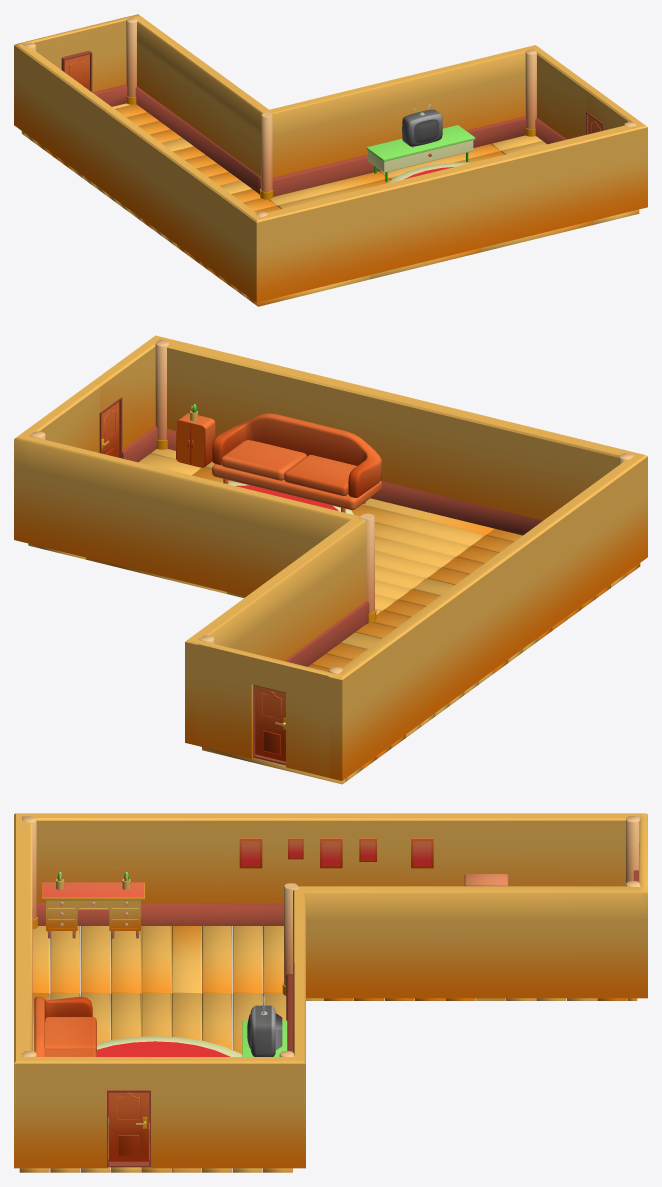
The picture shows the model from 3 angles, top to bottom: view 1: azimuth 30°, elevation 25°; view 2: azimuth 150°, elevation 25°; view 3: azimuth 270°, elevation 25°; orthographic projection. The views are drawn at different scales.
Visible parts, largest first — view 1: Wall, Lv48_Floor, Cube_003, Desk1, TV, Cube_016_Cube_024, Cube_016_Cube_025, Cube_016_Cube_023, Door2, Carpet; view 2: Wall, Lv48_Floor, Sofa, Cube_003, Door2, Rectangle019, Cube_016_Cube_026, Cube_016_Cube_024, Door1; view 3: Wall, Lv48_Floor, Cube_003, Desk2, Sofa, Door1, Carpet, TV, Cube_016_Cube_024, Cube_016_Cube_022, Cube_004, Cube_016_Cube_027 (+1 smaller).
Boxes of the visible parts, box(x1,y1,x2,y2) form: Wall: box(14, 14, 647, 302); Lv48_Floor: box(21, 103, 639, 306); Cube_003: box(92, 84, 566, 196); Desk1: box(366, 125, 475, 181); TV: box(402, 103, 442, 147); Cube_016_Cube_024: box(260, 112, 273, 199); Cube_016_Cube_025: box(525, 49, 536, 136); Cube_016_Cube_023: box(126, 17, 137, 104); Door2: box(65, 54, 89, 90); Carpet: box(387, 162, 471, 183); Wall: box(14, 335, 647, 780); Lv48_Floor: box(28, 449, 640, 784); Sofa: box(212, 413, 381, 512); Cube_003: box(122, 426, 542, 666); Door2: box(255, 685, 285, 761); Rectangle019: box(176, 413, 215, 467); Cube_016_Cube_026: box(155, 339, 169, 449); Cube_016_Cube_024: box(359, 513, 376, 622); Door1: box(101, 402, 119, 457); Wall: box(14, 813, 647, 1168); Lv48_Floor: box(19, 926, 637, 1172); Cube_003: box(32, 903, 292, 1051); Desk2: box(42, 882, 144, 938); Sofa: box(34, 996, 96, 1056); Door1: box(109, 1092, 148, 1161); Carpet: box(97, 1036, 242, 1130); TV: box(247, 995, 282, 1056); Cube_016_Cube_024: box(282, 883, 298, 995); Cube_016_Cube_022: box(626, 816, 640, 882); Cube_004: box(107, 1090, 150, 1167); Cube_016_Cube_027: box(22, 816, 37, 929).
Bounding box in the file's own units: 3203 × 690 × 3435.
